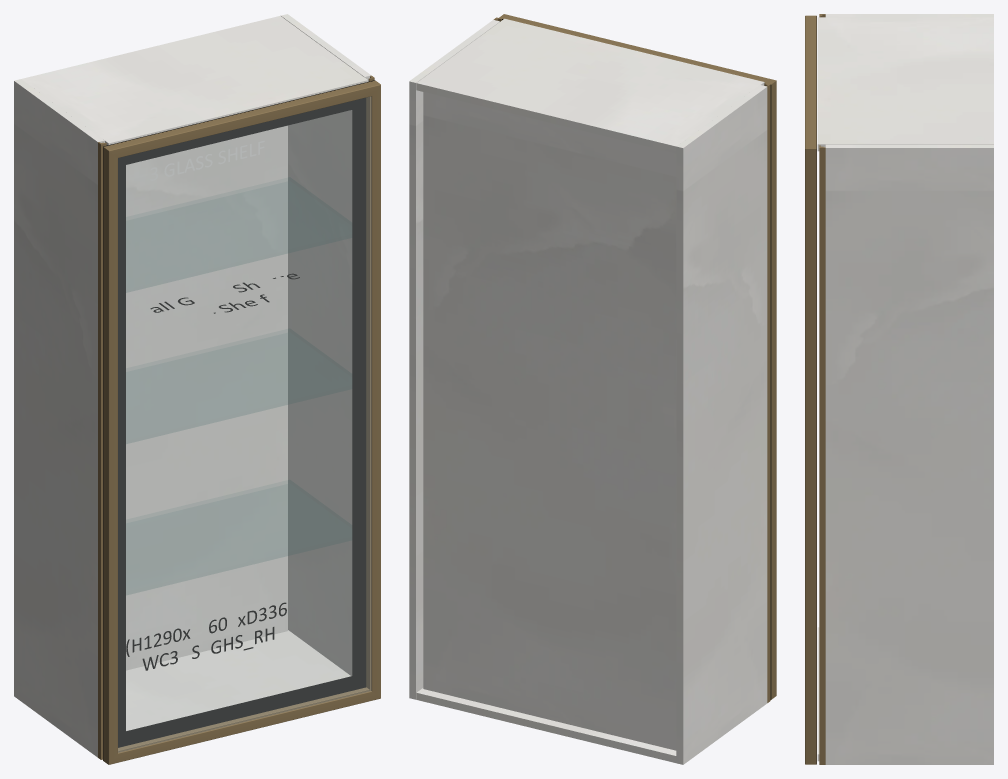
File: MDW-SH-NHX-GL-3SG-RHS-XXX-600-1290-336-15.glb
The picture shows the model from 3 angles, left to right: view 1: azimuth 30°, elevation 25°; view 2: azimuth 150°, elevation 25°; view 3: azimuth 270°, elevation 25°; orthographic projection.
Visible parts, largest first — view 1: Object_node_1, TP_node_5, TP_node_0, TP_node_1, Neon 22 Profile ALU PROF NEON 20 L21XH22.5MM 3MTR S2/405 SEC (×4), TP, Object_node_3, TP_node, Object_node_5, 2D text_node, 2D text_node_0, 2D text_node_1; view 2: TP_node_5, TP_node_0, TP, TP_node_1, Neon 22 Profile ALU PROF NEON 20 L21XH22.5MM 3MTR S2/405 SEC (×2), TP_node, Object_node_5, Object_node_3; view 3: TP_node_1, TP, Neon 22 Profile ALU PROF NEON 20 L21XH22.5MM 3MTR S2/405 SEC (×2), Object_node_11, Object_node_3, TP_node_0, TP_node.
Part boxes in pixels (<box>): Object_node_1: <box>118,97,371,752</box>; TP_node_5: <box>126,125,287,670</box>; TP_node_0: <box>14,79,104,757</box>; TP_node_1: <box>281,14,371,675</box>; Neon 22 Profile ALU PROF NEON 20 L21XH22.5MM 3MTR S2/405 SEC (×4): <box>103,80,380,764</box>; TP: <box>21,16,368,145</box>; Object_node_3: <box>103,80,374,760</box>; TP_node: <box>126,630,350,730</box>; Object_node_5: <box>98,142,106,759</box>; 2D text_node: <box>126,602,286,656</box>; 2D text_node_0: <box>142,627,274,670</box>; 2D text_node_1: <box>150,140,264,180</box>; TP_node_5: <box>423,92,676,750</box>; TP_node_0: <box>676,85,767,764</box>; TP: <box>416,18,764,153</box>; TP_node_1: <box>409,20,499,699</box>; Neon 22 Profile ALU PROF NEON 20 L21XH22.5MM 3MTR S2/405 SEC (×2): <box>499,14,776,699</box>; TP_node: <box>416,688,676,762</box>; Object_node_5: <box>764,83,770,702</box>; Object_node_3: <box>502,19,771,699</box>; TP_node_1: <box>825,144,993,764</box>; TP: <box>817,17,993,151</box>; Neon 22 Profile ALU PROF NEON 20 L21XH22.5MM 3MTR S2/405 SEC (×2): <box>805,15,816,764</box>; Object_node_11: <box>819,145,825,764</box>; Object_node_3: <box>816,16,816,764</box>; TP_node_0: <box>825,14,993,17</box>; TP_node: <box>817,627,819,761</box>.
Size of what is drawn, in the model's own units: 0.6 by 1.29 by 0.358.
7 materials, 1 textured.
